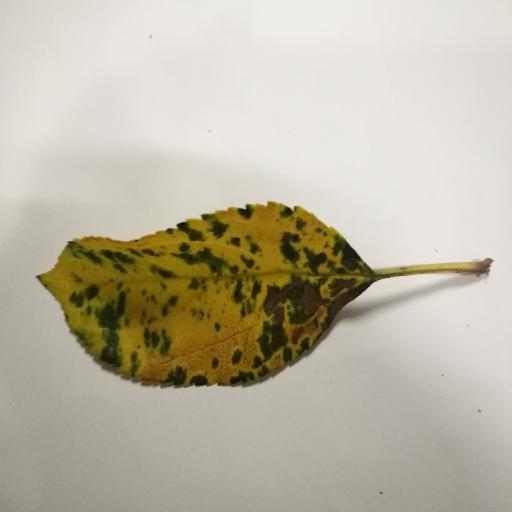Brown_Spot: (221, 275, 362, 371)
